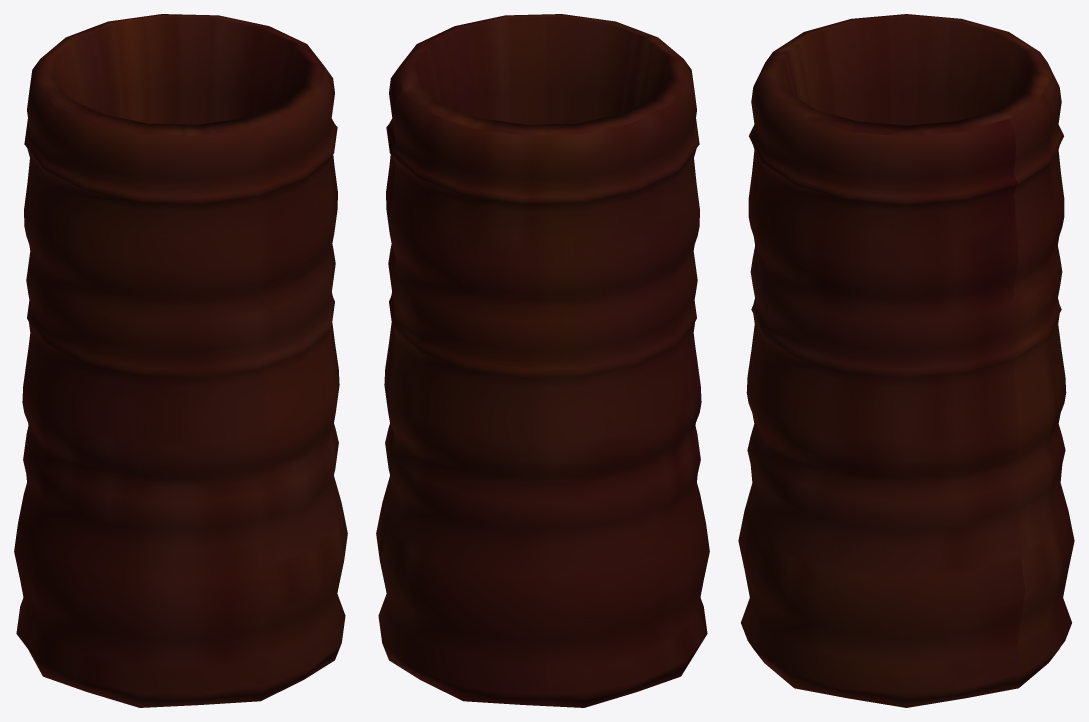
File: Ncense_Cylinder.fbx
3 renders of one model, left to right at view 1: azimuth 30°, elevation 25°; view 2: azimuth 150°, elevation 25°; view 3: azimuth 270°, elevation 25°, orthographic.
Visible parts, largest first — view 1: Ncense_Cylinder; view 2: Ncense_Cylinder; view 3: Ncense_Cylinder.
Boxes of the visible parts, left/top/right/bottom form: Ncense_Cylinder: left=14, top=14, right=347, bottom=707; Ncense_Cylinder: left=376, top=14, right=709, bottom=707; Ncense_Cylinder: left=738, top=14, right=1074, bottom=707.
Bounding box in the file's own units: 0.1019 × 0.1925 × 0.1019.
1 material, 1 textured.
